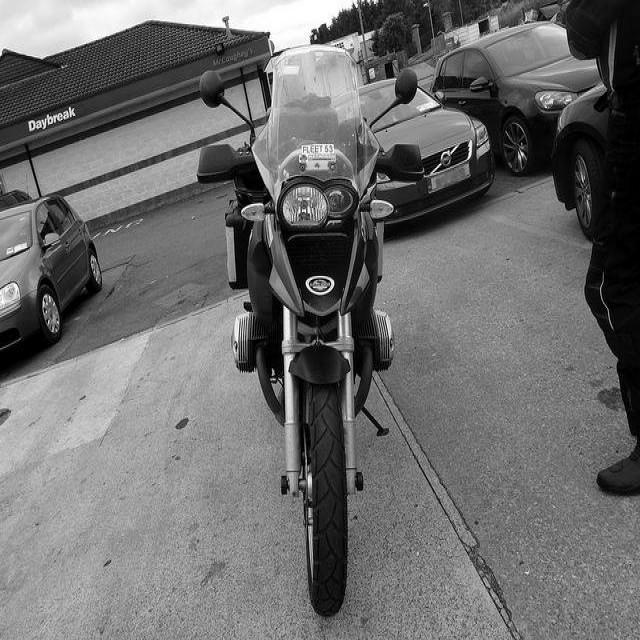vehicle: (189, 39, 429, 630), (429, 16, 603, 177), (357, 79, 497, 233), (1, 195, 103, 359), (549, 83, 612, 239)
